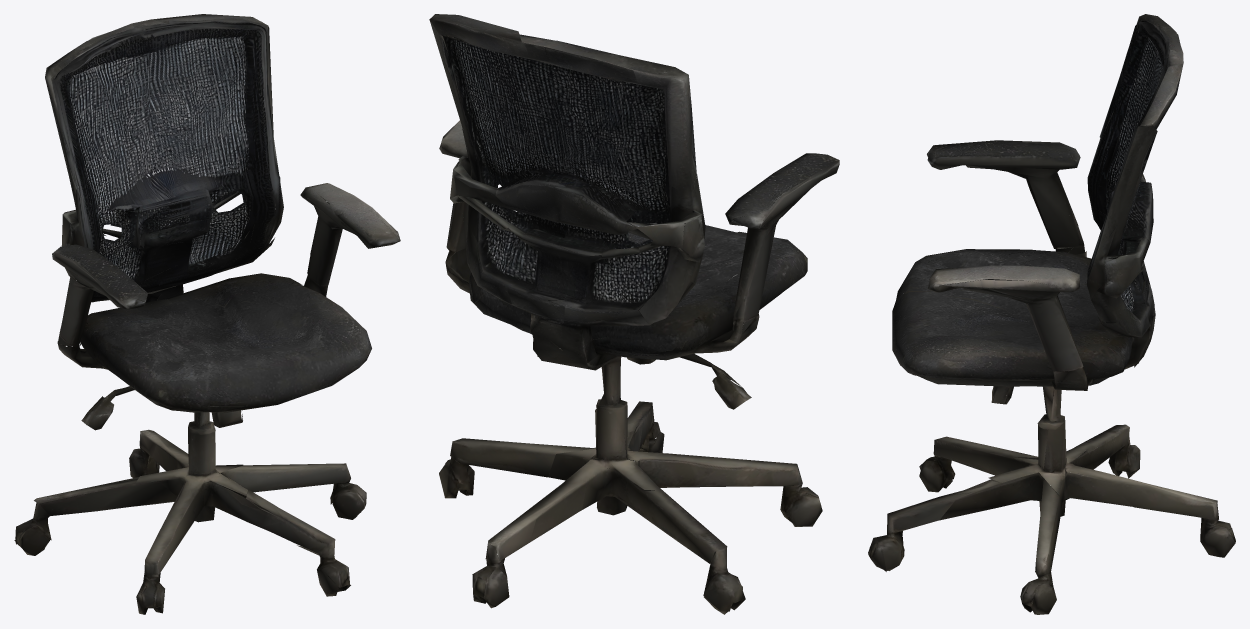
File: office_chair_LOD1.fbx
3 views of the same model, side by side, from view 1: azimuth 30°, elevation 25°; view 2: azimuth 150°, elevation 25°; view 3: azimuth 270°, elevation 25° (orthographic). The views are drawn at different scales.
Parts seen in each view (by area): view 1: office_chair.001; view 2: office_chair.001; view 3: office_chair.001.
Part boxes in pixels (box(x1,y1,x2,y2)): office_chair.001: box(14, 14, 400, 614); office_chair.001: box(429, 14, 839, 614); office_chair.001: box(868, 14, 1235, 614).
Bounding box in the file's own units: 0.6646 × 1 × 0.6818.
Materials: 1 (1 with a texture image).
